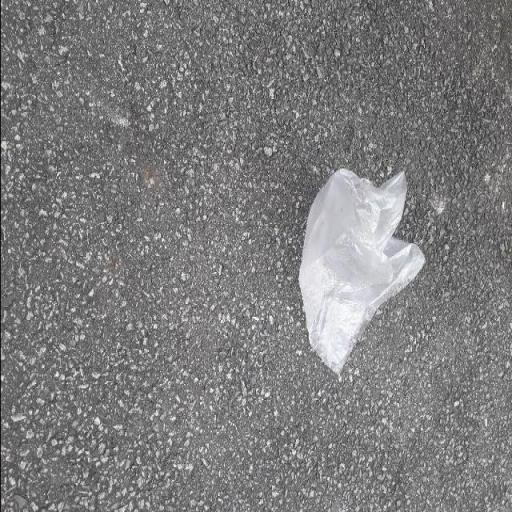plastic-bag: (300, 164, 430, 376)
